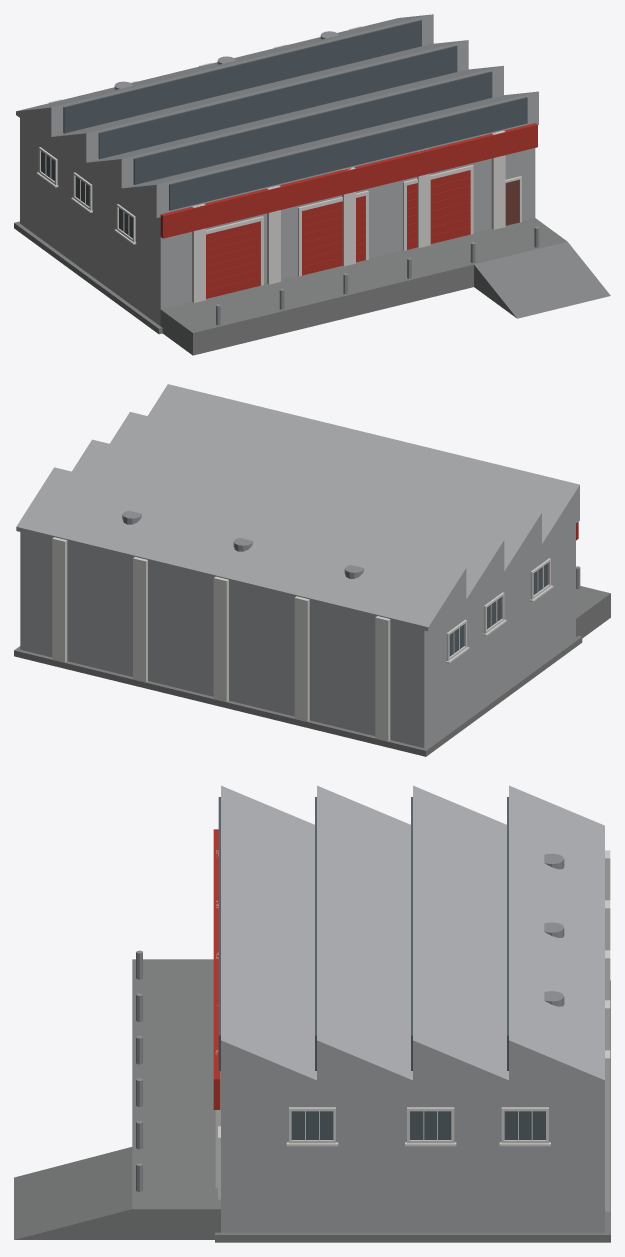
The model's file is city_warehouse.fbx.
3 views of the same model, one above another, from view 1: azimuth 30°, elevation 25°; view 2: azimuth 150°, elevation 25°; view 3: azimuth 270°, elevation 25° (orthographic). The views are drawn at different scales.
Visible parts, largest first — view 1: galv_1, glassshop_1, concrete_1, red_1, trim_1, steel_1, door_1; view 2: galv_1, trim_1, concrete_1, glassshop_1, steel_1; view 3: galv_1, concrete_1, glassshop_1, trim_1, steel_1, red_1.
Boxes of the visible parts, left/top/right/bottom form: galv_1: left=16, top=14, right=538, bottom=325; glassshop_1: left=41, top=20, right=527, bottom=238; concrete_1: left=14, top=218, right=610, bottom=355; red_1: left=160, top=123, right=537, bottom=298; trim_1: left=36, top=26, right=521, bottom=302; steel_1: left=114, top=31, right=539, bottom=325; door_1: left=505, top=179, right=519, bottom=225; galv_1: left=16, top=384, right=579, bottom=748; trim_1: left=52, top=537, right=553, bottom=741; concrete_1: left=14, top=586, right=610, bottom=756; glassshop_1: left=449, top=563, right=548, bottom=656; steel_1: left=122, top=510, right=580, bottom=589; galv_1: left=221, top=785, right=604, bottom=1232; concrete_1: left=14, top=959, right=610, bottom=1242; glassshop_1: left=218, top=797, right=545, bottom=1139; trim_1: left=215, top=850, right=610, bottom=1211; steel_1: left=136, top=853, right=564, bottom=1191; red_1: left=213, top=829, right=220, bottom=1109.
Bounding box in the file's own units: 2.04 × 0.755 × 2.02.
